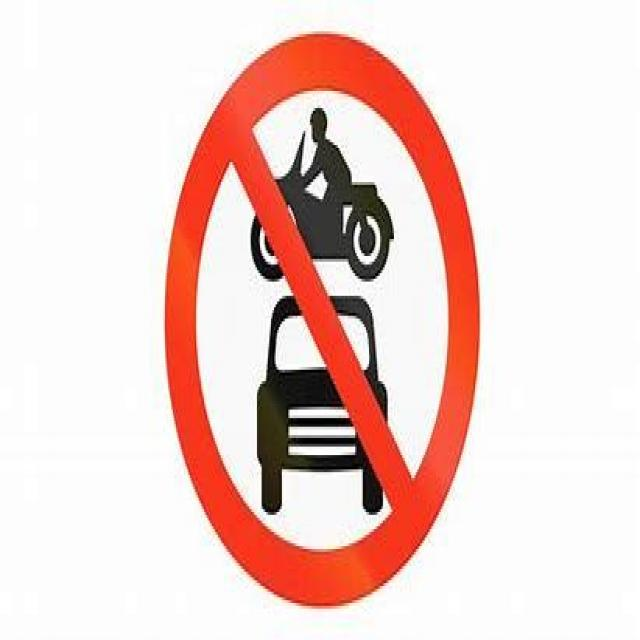ALL_MOTOR_VEHICLE_PROHIBITED: (157, 11, 505, 628)
